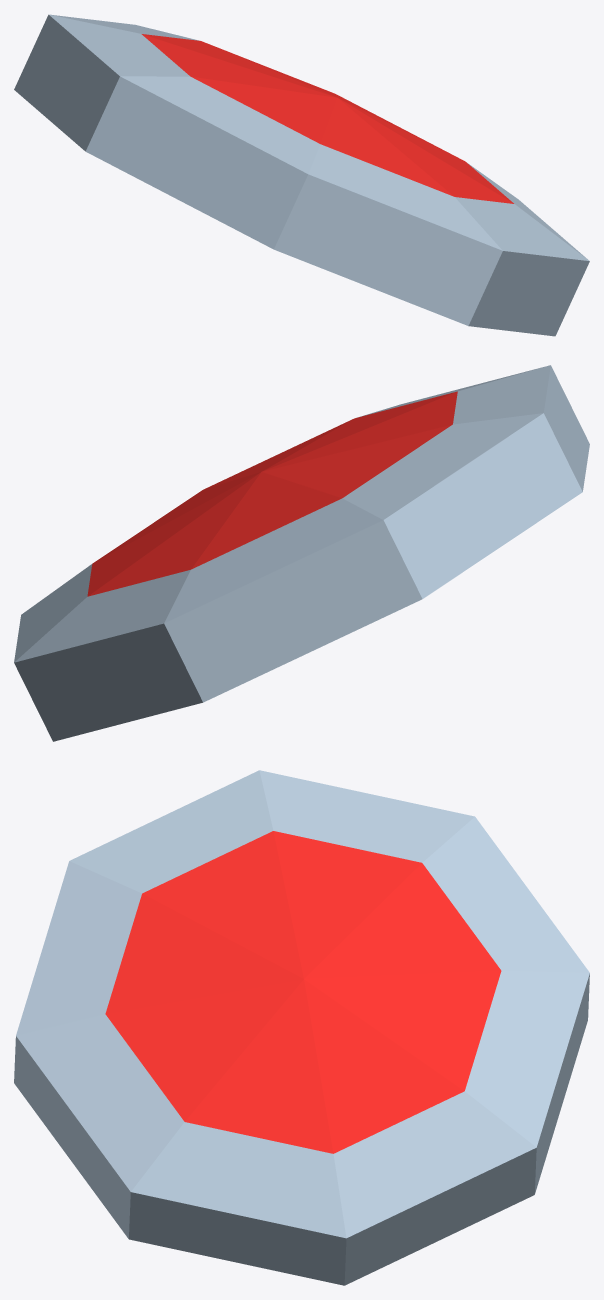
3 renders of one model, top to bottom at view 1: azimuth 30°, elevation 25°; view 2: azimuth 150°, elevation 25°; view 3: azimuth 270°, elevation 25°, orthographic. The views are drawn at different scales.
Visible parts, largest first — view 1: DP_01; view 2: DP_01; view 3: DP_01.
Part boxes in pixels (box(x1,y1,x2,y2)): DP_01: box(14, 14, 589, 336); DP_01: box(14, 365, 589, 741); DP_01: box(14, 770, 589, 1285).
Bounding box in the file's own units: 0.6071 × 0.3996 × 0.6486.
